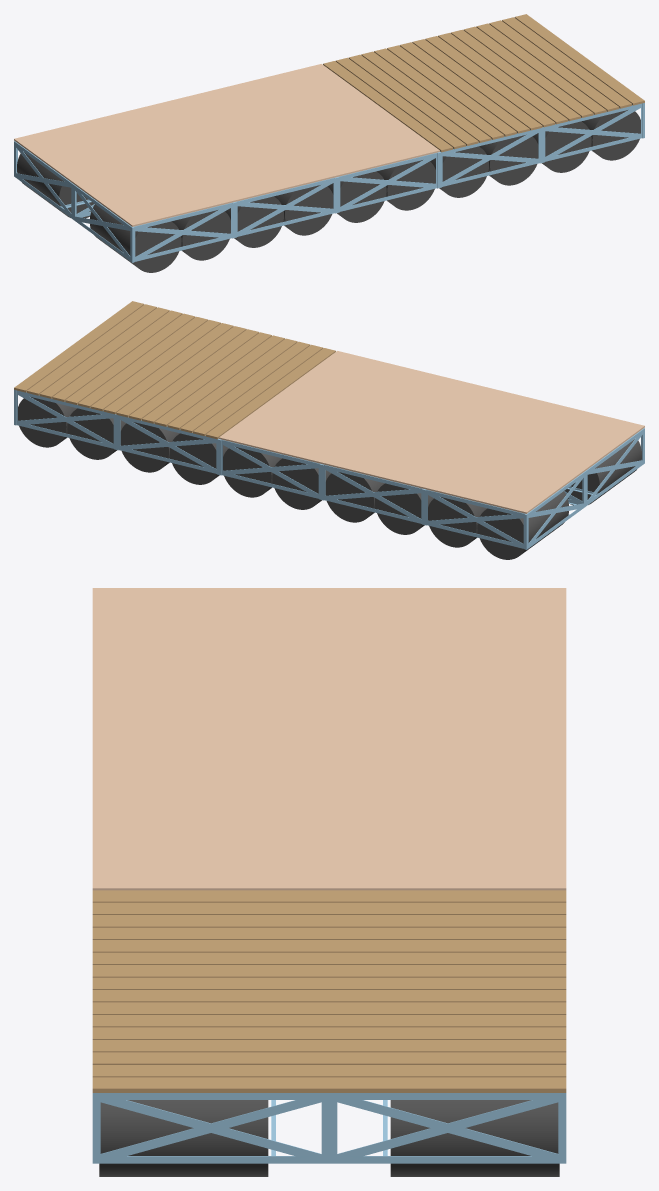
Rendered from BarbourSmith_Rolling-Barge-Platform.glb.
3 views of the same model, one above another, from view 1: azimuth 30°, elevation 25°; view 2: azimuth 150°, elevation 25°; view 3: azimuth 270°, elevation 25° (orthographic). The views are drawn at different scales.
Parts seen in each view (by area): view 1: part-53, part-52, part-51, part-0, part-2, part-14, part-7, part-21, part-28, part-22, part-8, part-15 (+23 smaller); view 2: part-53, part-52, part-51, part-0, part-4, part-14, part-7, part-21, part-28, part-24, part-10, part-17 (+23 smaller); view 3: part-51, part-52, part-53, part-28, part-29, part-31, part-50, part-35, part-37, part-39, part-41, part-44 (+10 smaller).
Part boxes in pixels (box(x1,y1,x2,y2)): part-53: box(14, 114, 234, 226); part-52: box(117, 89, 337, 201); part-51: box(219, 64, 439, 176); part-0: box(14, 141, 234, 262); part-2: box(90, 204, 181, 272); part-14: box(337, 152, 439, 212); part-7: box(234, 177, 337, 237); part-21: box(439, 128, 542, 187); part-28: box(542, 103, 644, 162); part-22: box(479, 134, 538, 185); part-8: box(274, 185, 333, 235); part-15: box(377, 160, 435, 210); part-53: box(424, 401, 644, 513); part-52: box(321, 376, 541, 488); part-51: box(219, 351, 439, 463); part-0: box(424, 428, 644, 549); part-4: box(477, 491, 568, 559); part-14: box(219, 439, 321, 499); part-7: box(321, 464, 424, 524); part-21: box(116, 415, 219, 474); part-28: box(14, 390, 116, 449); part-24: box(120, 421, 179, 472); part-10: box(325, 472, 384, 522); part-17: box(223, 447, 281, 497); part-51: box(92, 788, 566, 890); part-52: box(92, 688, 566, 788); part-53: box(92, 588, 566, 687); part-28: box(92, 1093, 566, 1163); part-29: box(99, 1100, 268, 1176); part-31: box(390, 1100, 559, 1176); part-50: box(92, 1077, 566, 1092); part-35: box(92, 890, 566, 902); part-37: box(92, 915, 566, 927); part-39: box(92, 940, 566, 952); part-41: box(92, 965, 566, 977); part-44: box(92, 1002, 566, 1014).
Size of the model in its own units: 6096 by 617 by 2438.
